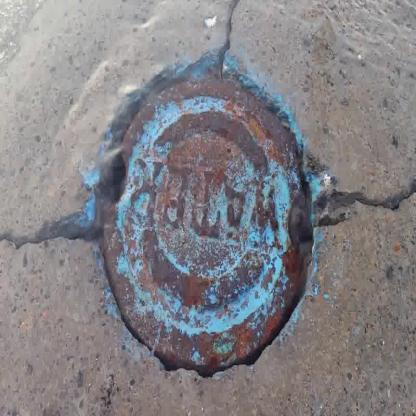closed manhole-not overflowing-: (96, 64, 324, 383)
